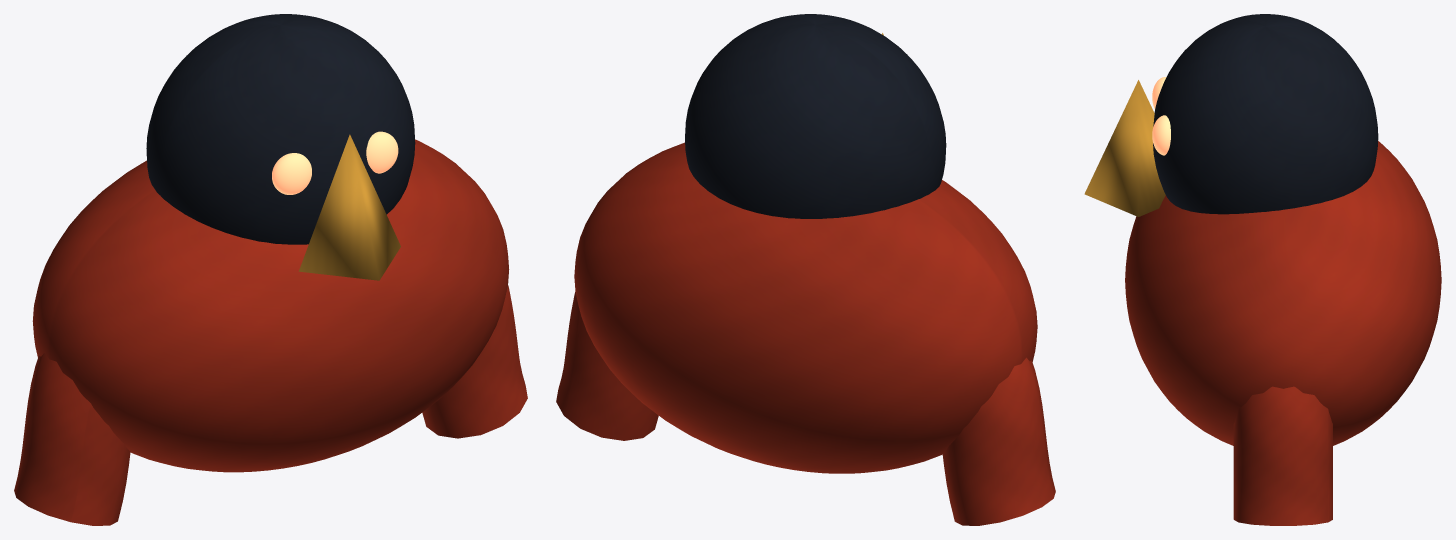
File: Falcon.glb
3 renders of one model, left to right at view 1: azimuth 30°, elevation 25°; view 2: azimuth 150°, elevation 25°; view 3: azimuth 270°, elevation 25°, orthographic. The views are drawn at different scales.
Parts seen in each view (by area): view 1: Body, Head, Wing, Beak, Wing.001, Eye, Eye.001; view 2: Body, Head, Wing, Wing.001; view 3: Body, Head, Wing.001, Beak, Eye.001.
Boxes of the visible parts, <box> form: Body: <box>32,139,509,472</box>; Head: <box>146,14,415,244</box>; Wing: <box>14,353,130,525</box>; Beak: <box>298,134,400,280</box>; Wing.001: <box>422,285,527,438</box>; Eye: <box>272,153,311,194</box>; Eye.001: <box>366,131,398,173</box>; Body: <box>574,142,1037,473</box>; Head: <box>685,14,946,218</box>; Wing: <box>942,357,1055,525</box>; Wing.001: <box>556,292,658,440</box>; Body: <box>1125,141,1441,445</box>; Head: <box>1153,14,1378,214</box>; Wing.001: <box>1233,386,1332,525</box>; Beak: <box>1084,80,1165,216</box>; Eye.001: <box>1152,115,1170,155</box>.
Size of the model in its own units: 1.16 by 1.01 by 0.79.
Materials: 4 (3 with a texture image).
